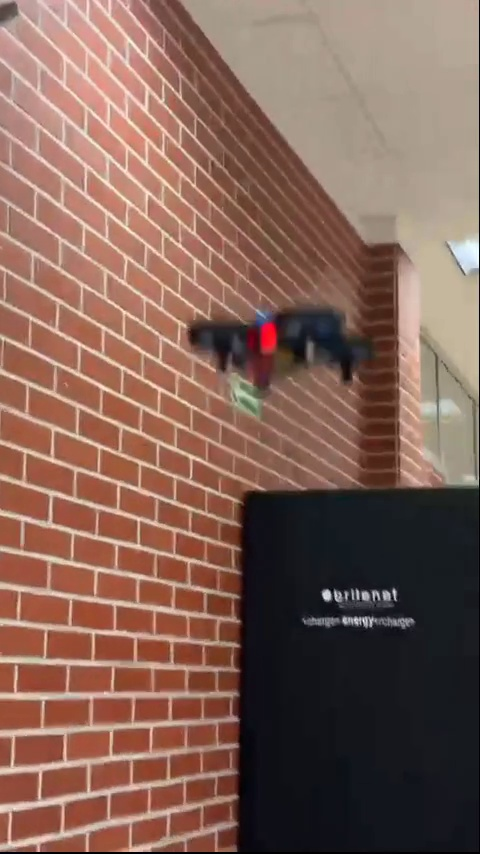drone: (185, 307, 370, 390)
